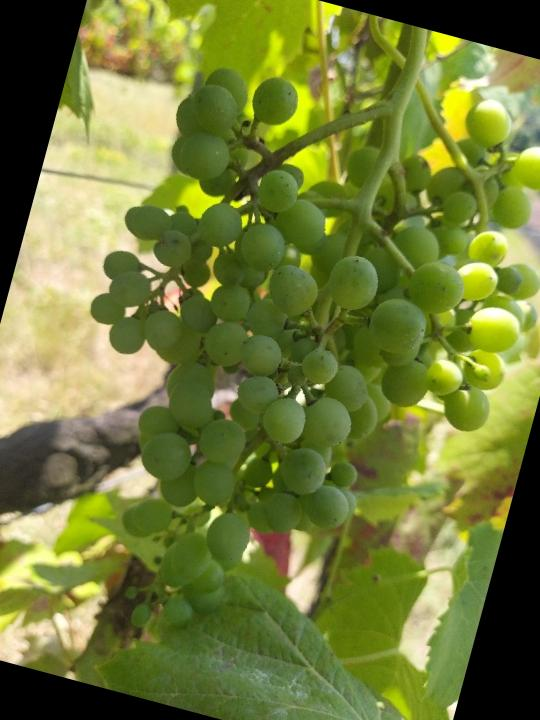grape: (10, 10, 540, 715)
